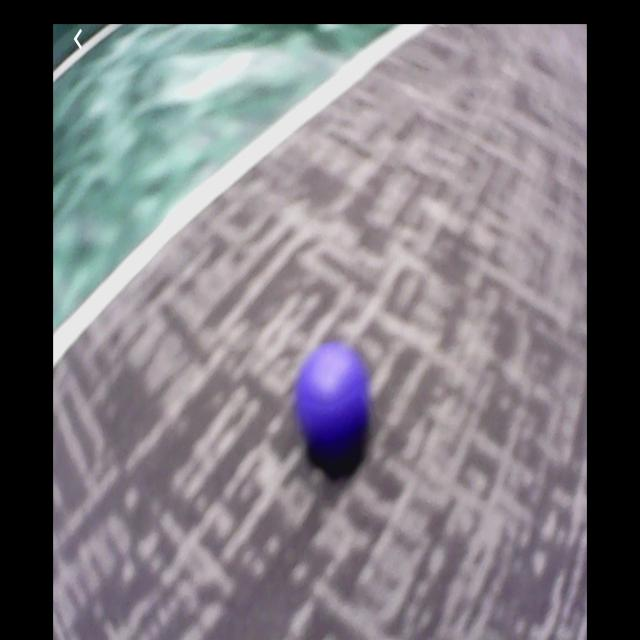ball: (299, 337, 371, 468)
